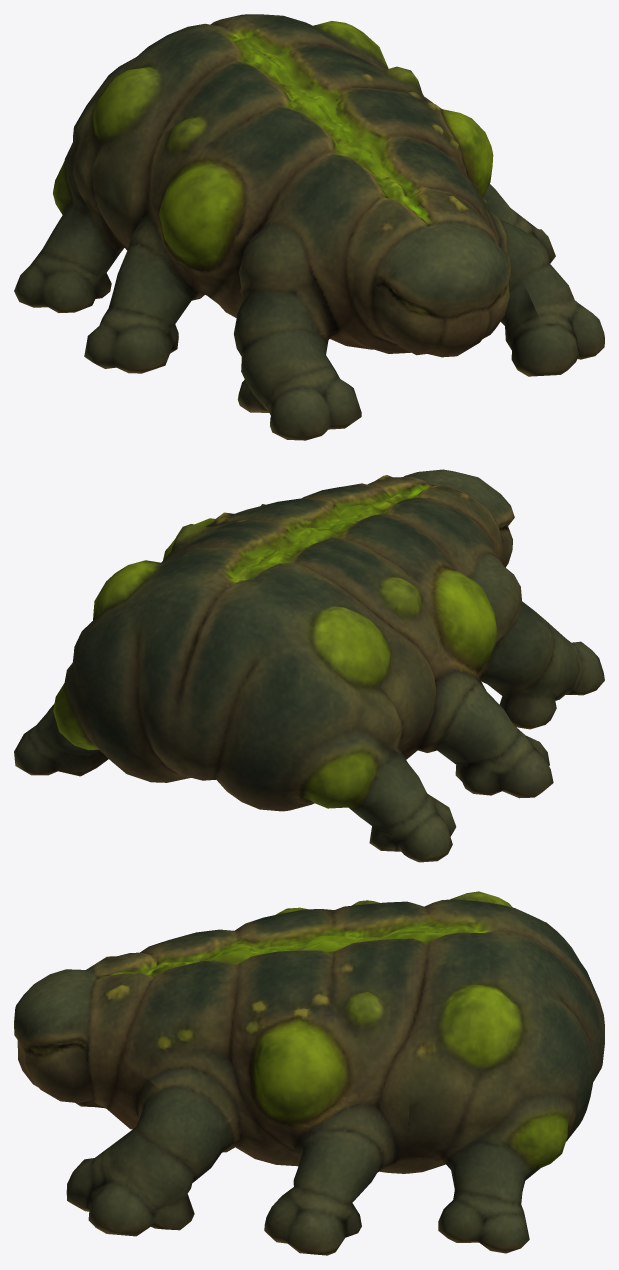
The model's file is rotting_behemoth_v2.glb.
3 renders of one model, top to bottom at view 1: azimuth 30°, elevation 25°; view 2: azimuth 150°, elevation 25°; view 3: azimuth 270°, elevation 25°, orthographic.
Parts seen in each view (by area): view 1: rotting-behemoth-m0-4000-v2; view 2: rotting-behemoth-m0-4000-v2; view 3: rotting-behemoth-m0-4000-v2.
Boxes of the visible parts, x1,y1,x2,y2 form: rotting-behemoth-m0-4000-v2: [14, 14, 604, 440]; rotting-behemoth-m0-4000-v2: [14, 469, 604, 862]; rotting-behemoth-m0-4000-v2: [14, 891, 604, 1255].
Bounding box in the file's own units: 0.8919 × 0.4364 × 1.
1 material, 1 textured.
